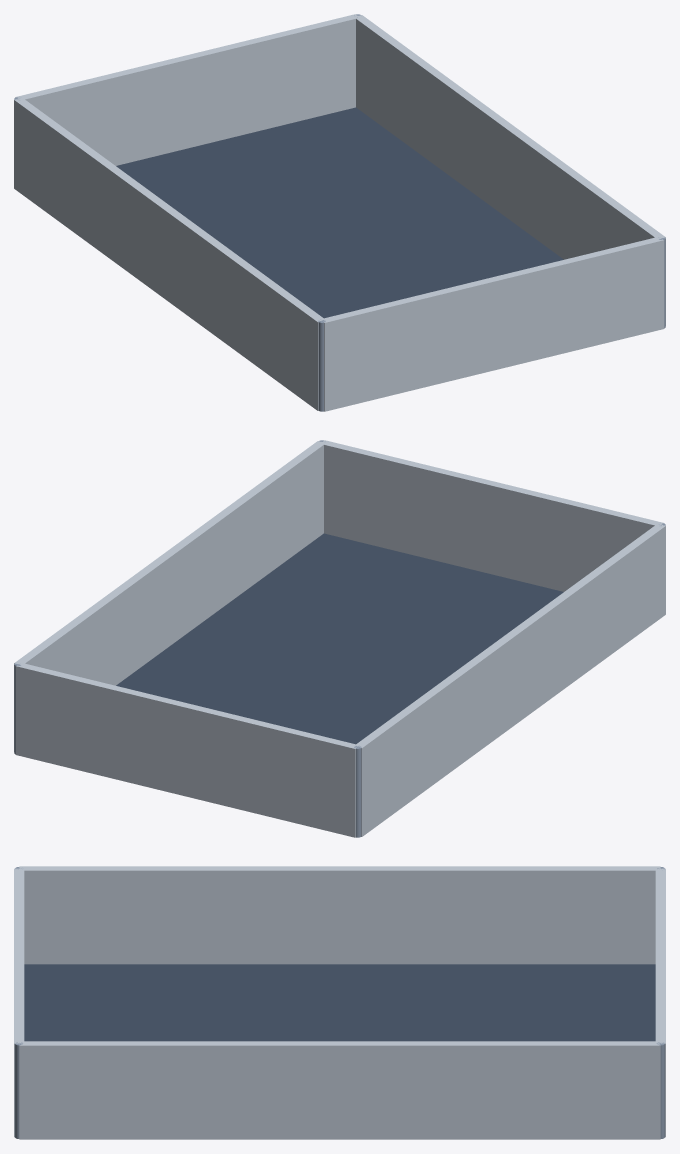
3 renders of one model, top to bottom at view 1: azimuth 30°, elevation 25°; view 2: azimuth 150°, elevation 25°; view 3: azimuth 270°, elevation 25°, orthographic. The views are drawn at different scales.
Parts seen in each view (by area): view 1: room-content; view 2: room-content; view 3: room-content.
Part boxes in pixels (<box>): room-content: <box>14,14,665,411</box>; room-content: <box>14,440,665,837</box>; room-content: <box>14,866,665,1139</box>.
Bounding box in the file's own units: 20.5 × 5 × 31.5.
